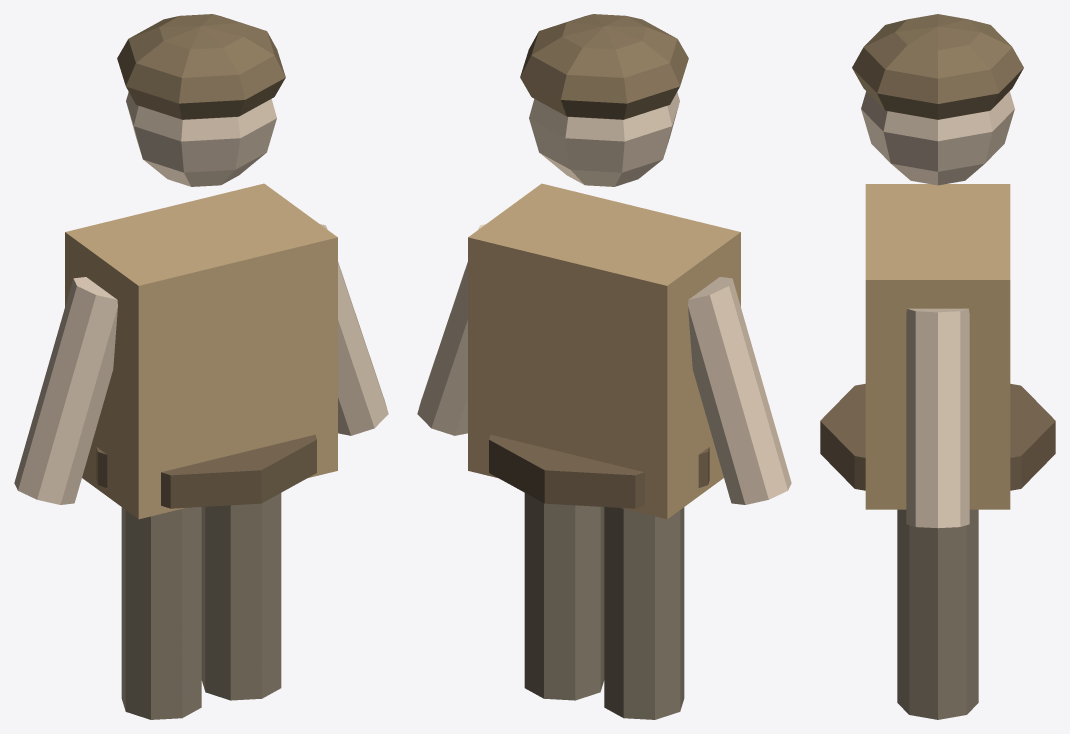
Rendered from worker.glb.
The picture shows the model from 3 angles, left to right: view 1: azimuth 30°, elevation 25°; view 2: azimuth 150°, elevation 25°; view 3: azimuth 270°, elevation 25°; orthographic projection.
Visible parts, largest first — view 1: Worker; view 2: Worker; view 3: Worker.
Part boxes in pixels (bbox=[...]): Worker: bbox=[14, 14, 388, 719]; Worker: bbox=[417, 14, 791, 719]; Worker: bbox=[820, 14, 1055, 719].
Bounding box in the file's own units: 0.9215 × 1.6 × 0.52.
